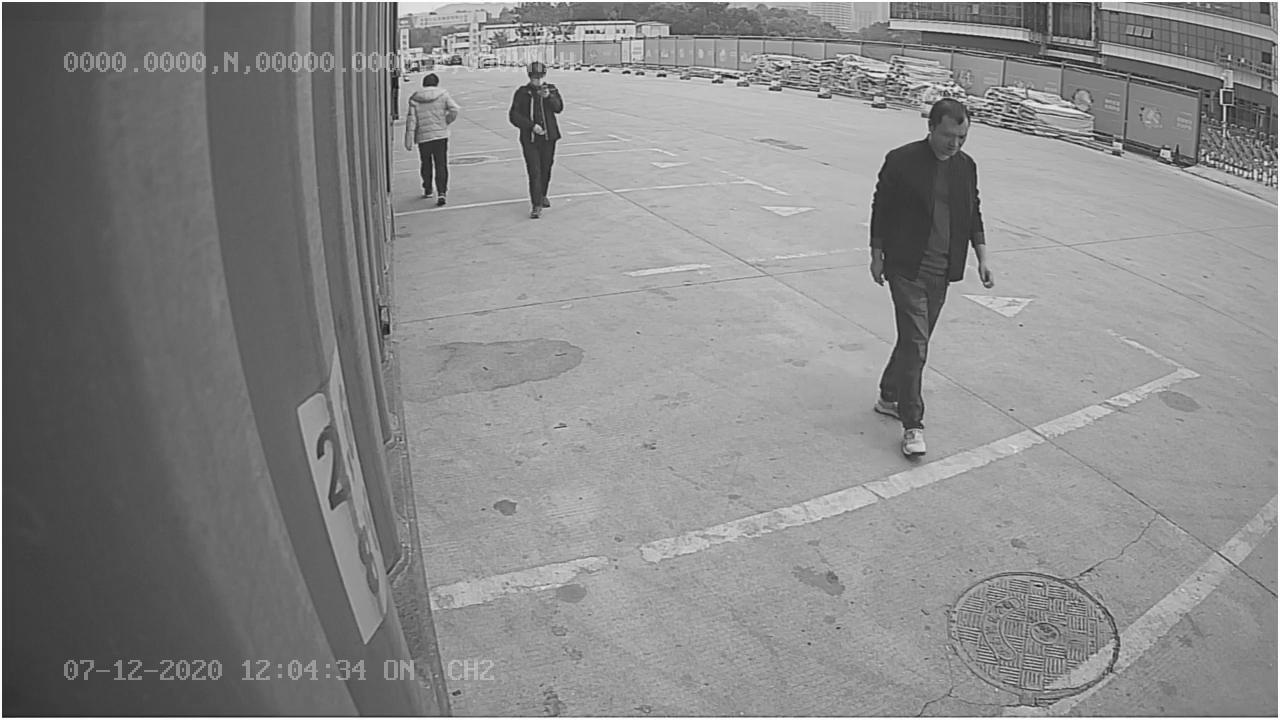person: (864, 91, 996, 460)
